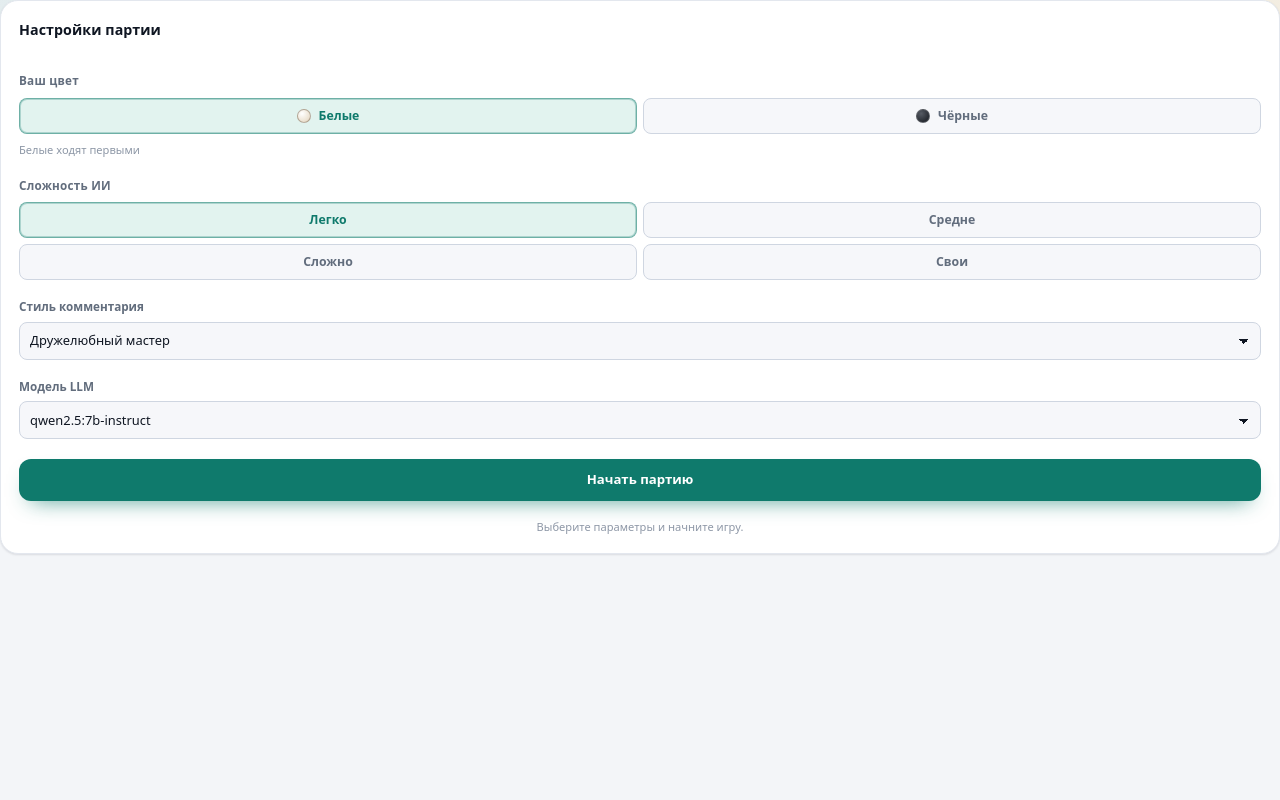
SettingsPanel › показывает поля глубины и бюджета для своей сложности
The width and height of the screenshot is (1280, 800).
Check: the field labelled "Глубина" is not shown
Step 1. Click the button "Свои" → (952, 262), box [643, 244, 1261, 280]
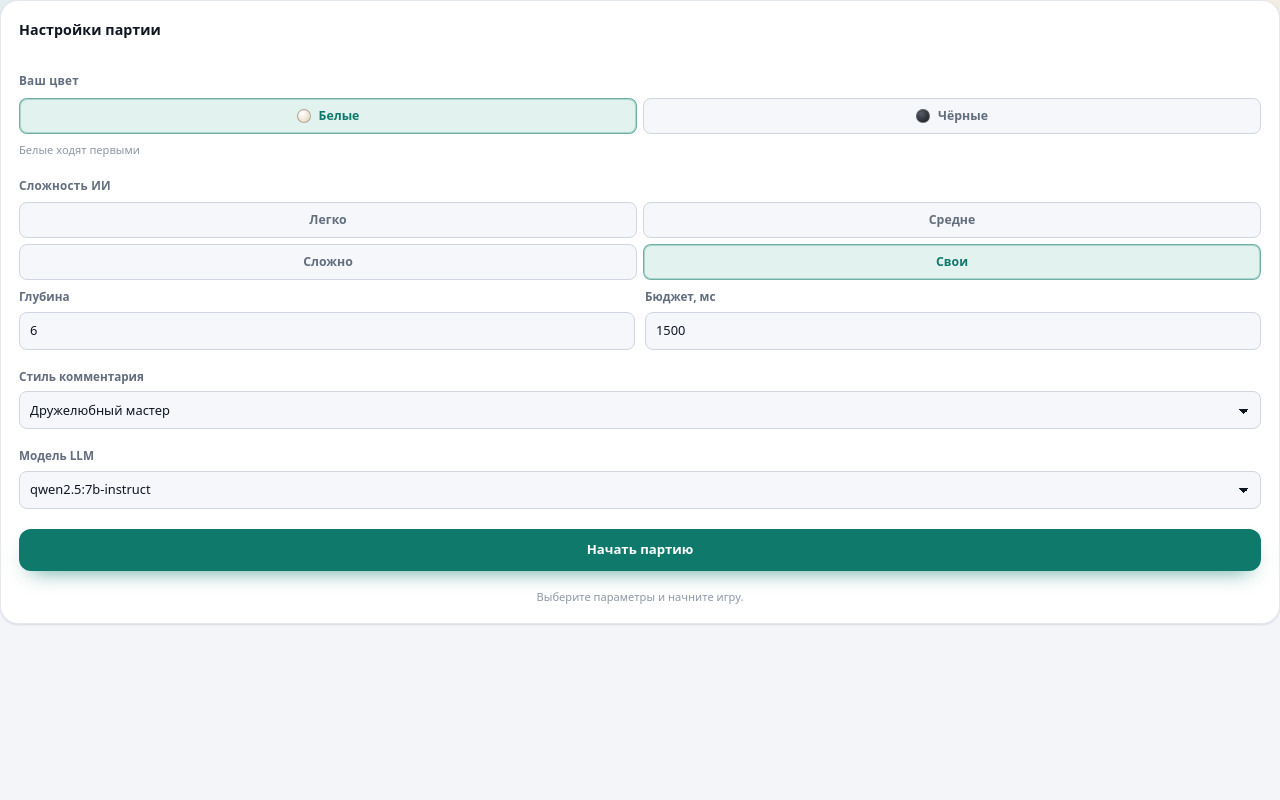
Check: the number field labelled "Глубина" is shown, box [19, 312, 635, 350]
Check: the number field labelled "Бюджет, мс" is shown, box [645, 312, 1261, 350]
